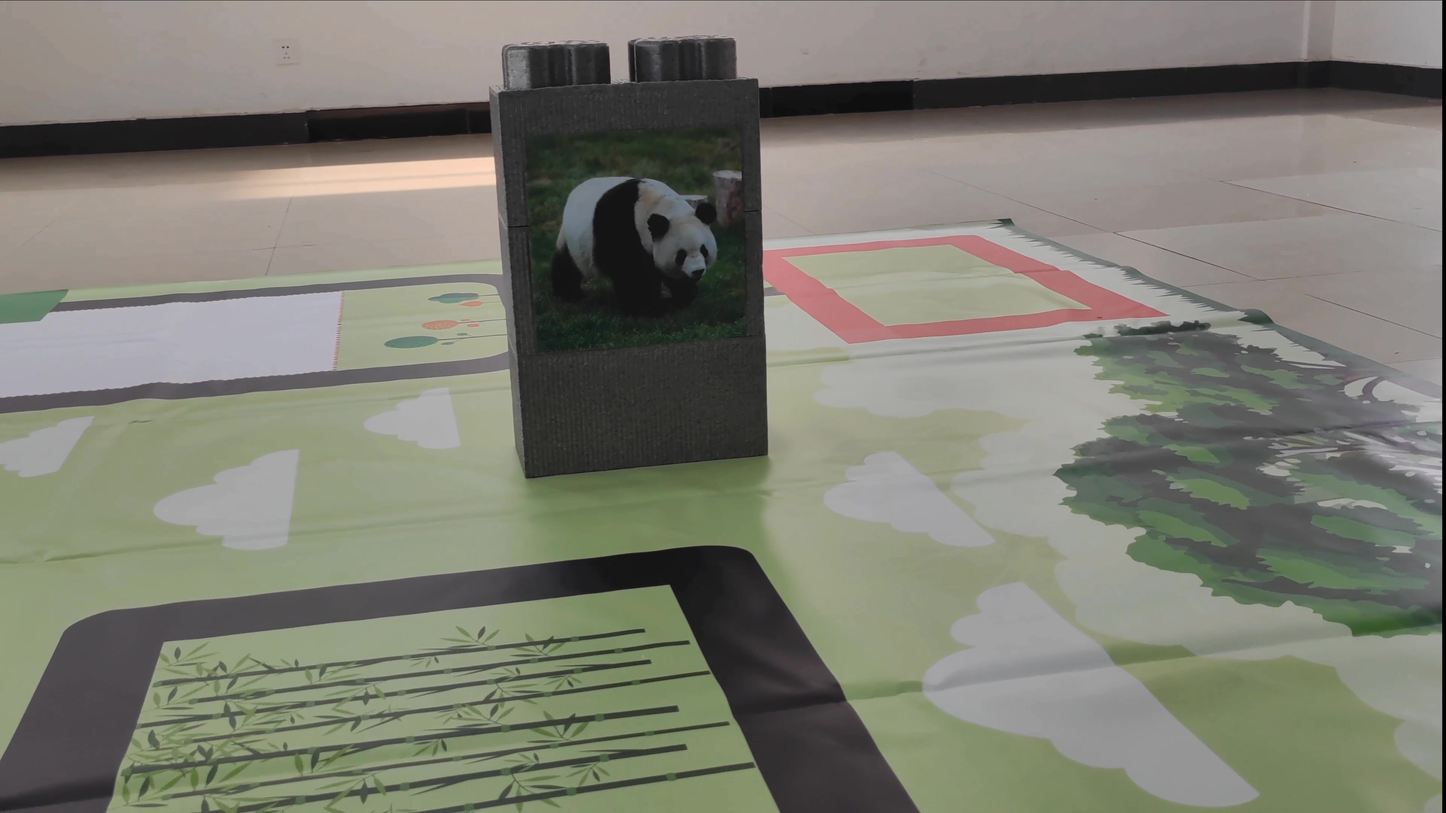panda: (545, 140, 741, 328)
